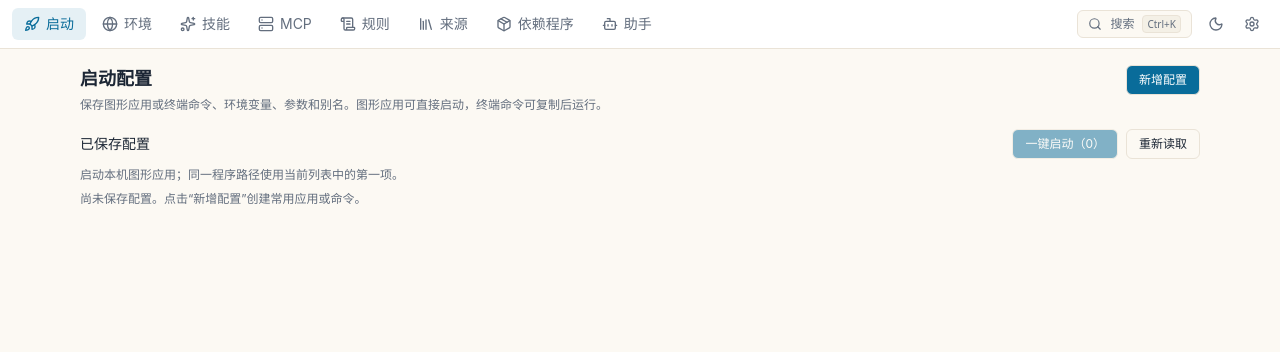
App 顶层导航 › does not query unrelated domains for navigation badges
The image size is (1280, 352).
Click the button "技能": (205, 24) x1=168 y1=8 x2=242 y2=40
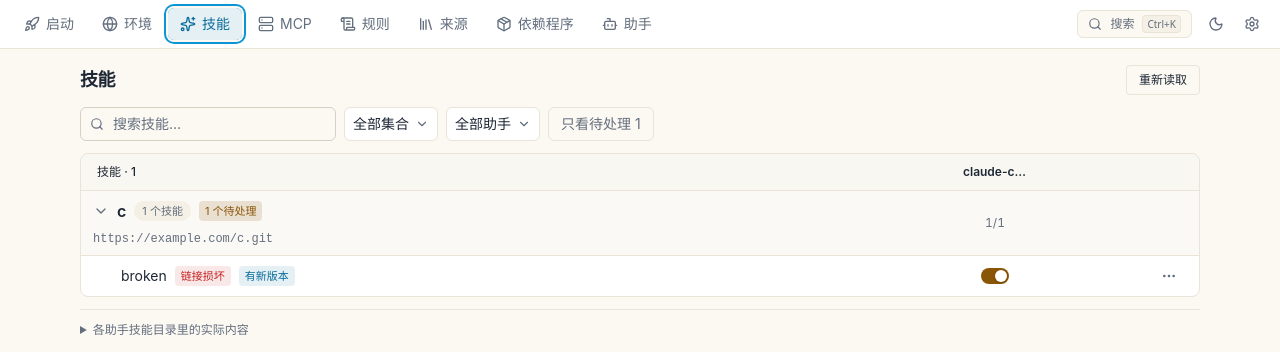
Check: the heading "技能" is shown, box x1=80 y1=66 x2=115 y2=94
